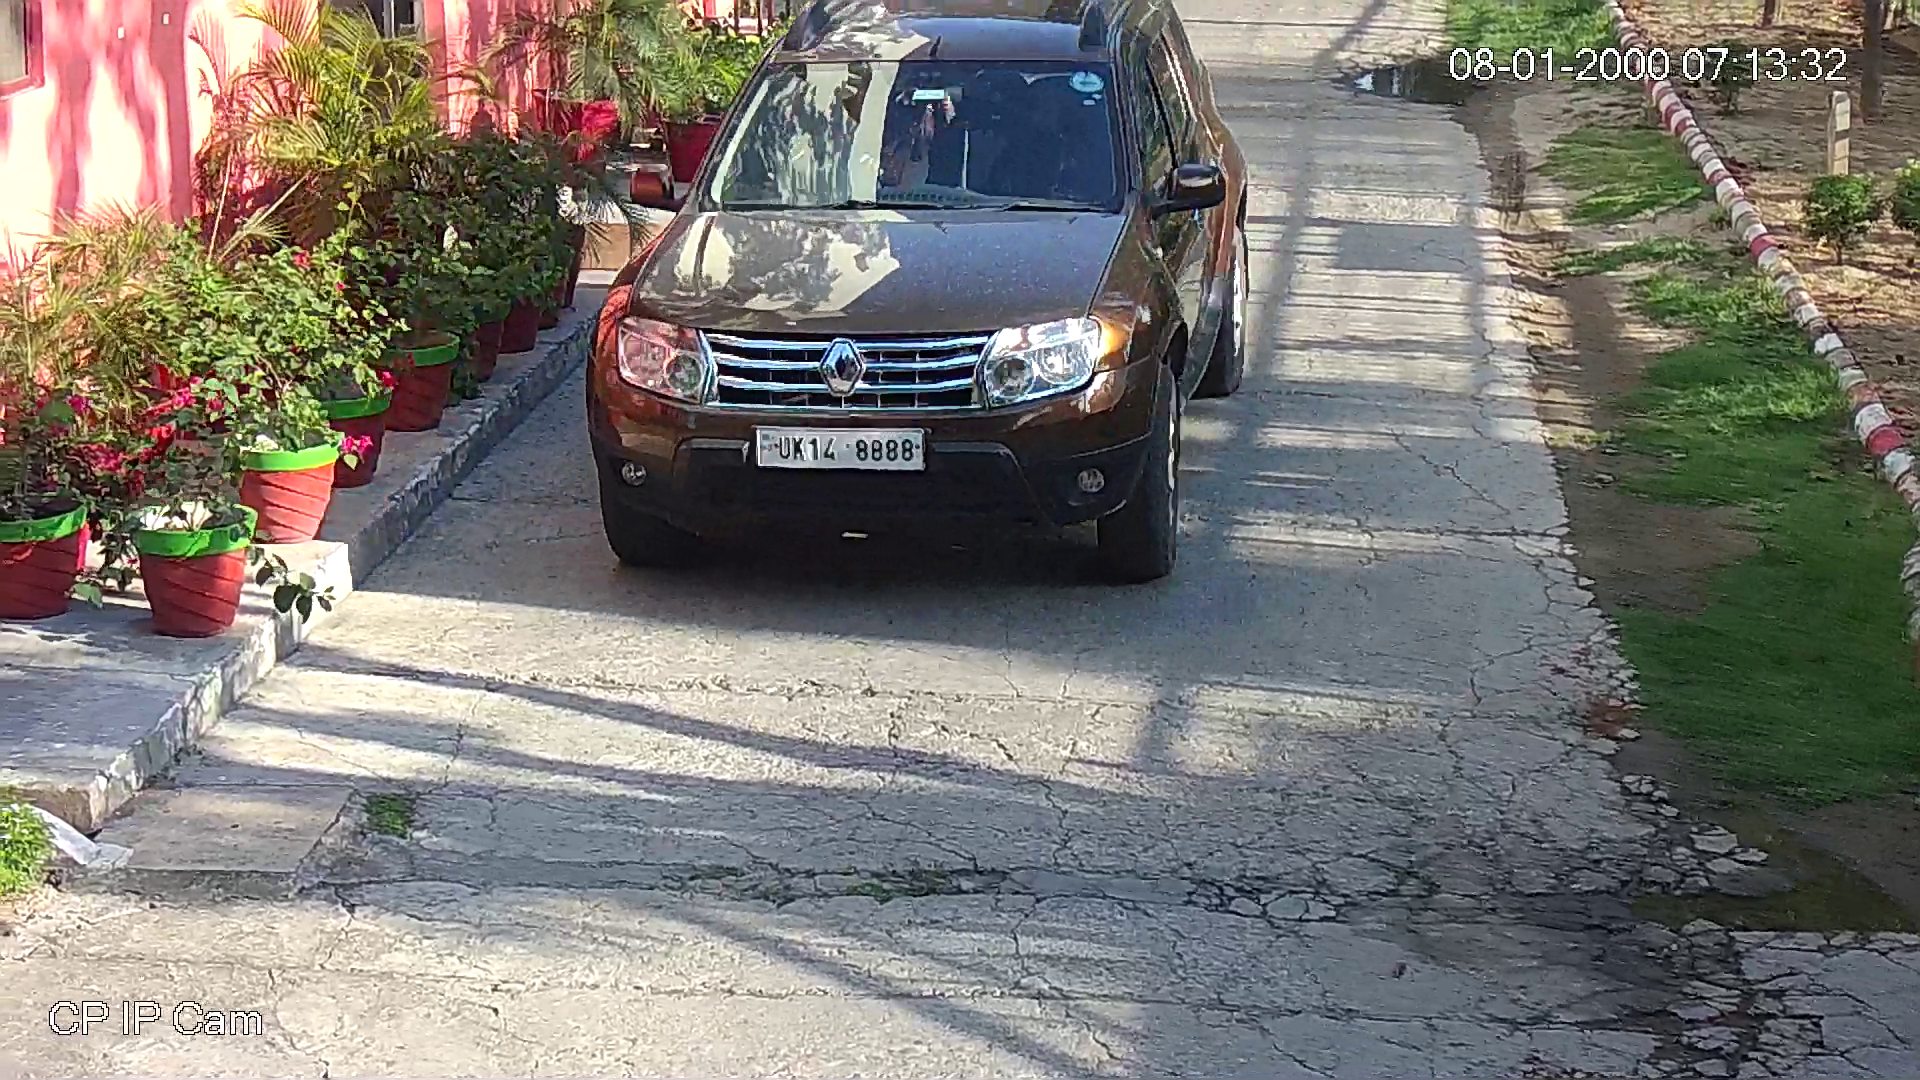plate: (756, 425, 927, 470)
